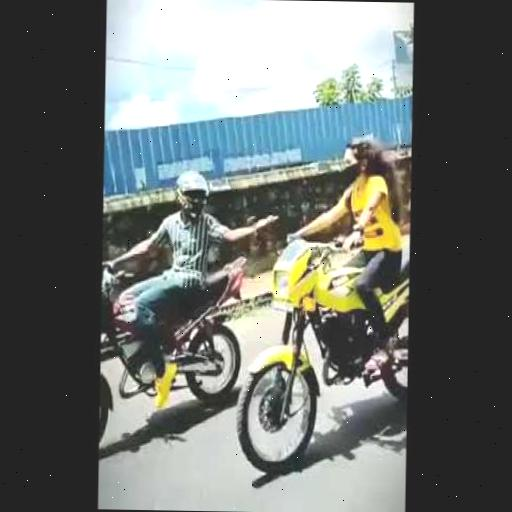helmet: (113, 155, 240, 418)
no helmet: (285, 116, 401, 495)
